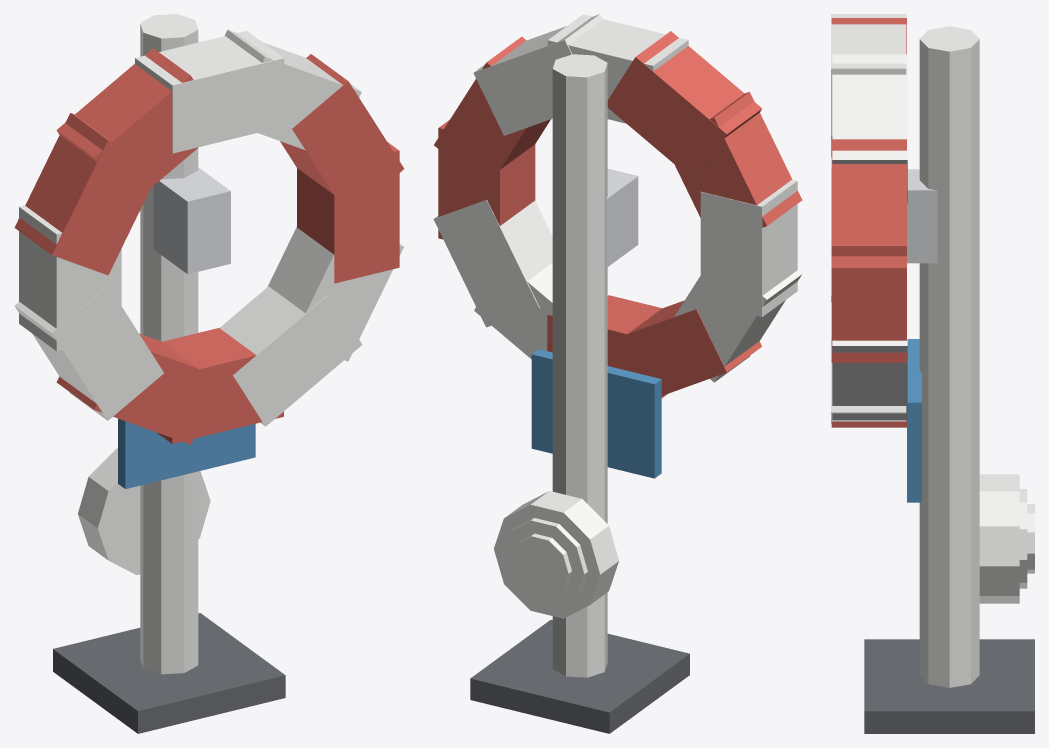
The model's file is ferry-terminal-and-harbour-crossing-ferry-terminal-and-719cf382__35629.glb.
3 renders of one model, left to right at view 1: azimuth 30°, elevation 25°; view 2: azimuth 150°, elevation 25°; view 3: azimuth 270°, elevation 25°, orthographic. The views are drawn at different scales.
Parts seen in each view (by area): view 1: ferry-terminal-and-harbour-crossing-lifebuoy-post; view 2: ferry-terminal-and-harbour-crossing-lifebuoy-post; view 3: ferry-terminal-and-harbour-crossing-lifebuoy-post.
Part boxes in pixels (box(x1,y1,x2,y2)): ferry-terminal-and-harbour-crossing-lifebuoy-post: box(14, 14, 404, 733); ferry-terminal-and-harbour-crossing-lifebuoy-post: box(433, 14, 802, 733); ferry-terminal-and-harbour-crossing-lifebuoy-post: box(831, 14, 1034, 733).
Size of the model in its own units: 0.8129 by 1.46 by 0.4063.
